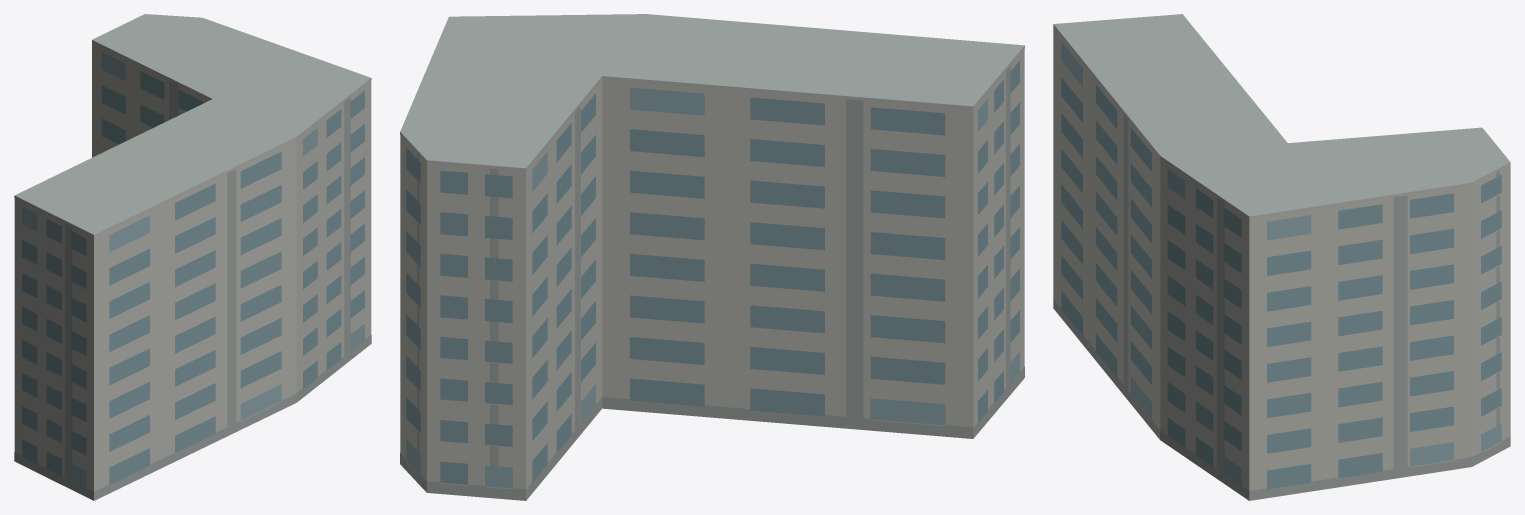
Rendered from residential-ebc2f2c6-456b-4b7a-bb50-496f0b175d54.glb.
The picture shows the model from 3 angles, left to right: view 1: azimuth 30°, elevation 25°; view 2: azimuth 150°, elevation 25°; view 3: azimuth 270°, elevation 25°; orthographic projection. The views are drawn at different scales.
Parts seen in each view (by area): view 1: residential-ebc2f2c6-456b-4b7a-bb50-496f0b175d54.tmp; view 2: residential-ebc2f2c6-456b-4b7a-bb50-496f0b175d54.tmp; view 3: residential-ebc2f2c6-456b-4b7a-bb50-496f0b175d54.tmp.
Boxes of the visible parts, x1=… form: residential-ebc2f2c6-456b-4b7a-bb50-496f0b175d54.tmp: x1=14, y1=14, x2=371, y2=500; residential-ebc2f2c6-456b-4b7a-bb50-496f0b175d54.tmp: x1=400, y1=14, x2=1024, y2=500; residential-ebc2f2c6-456b-4b7a-bb50-496f0b175d54.tmp: x1=1053, y1=14, x2=1510, y2=500.
Bounding box in the file's own units: 38.19 × 25 × 36.42.
